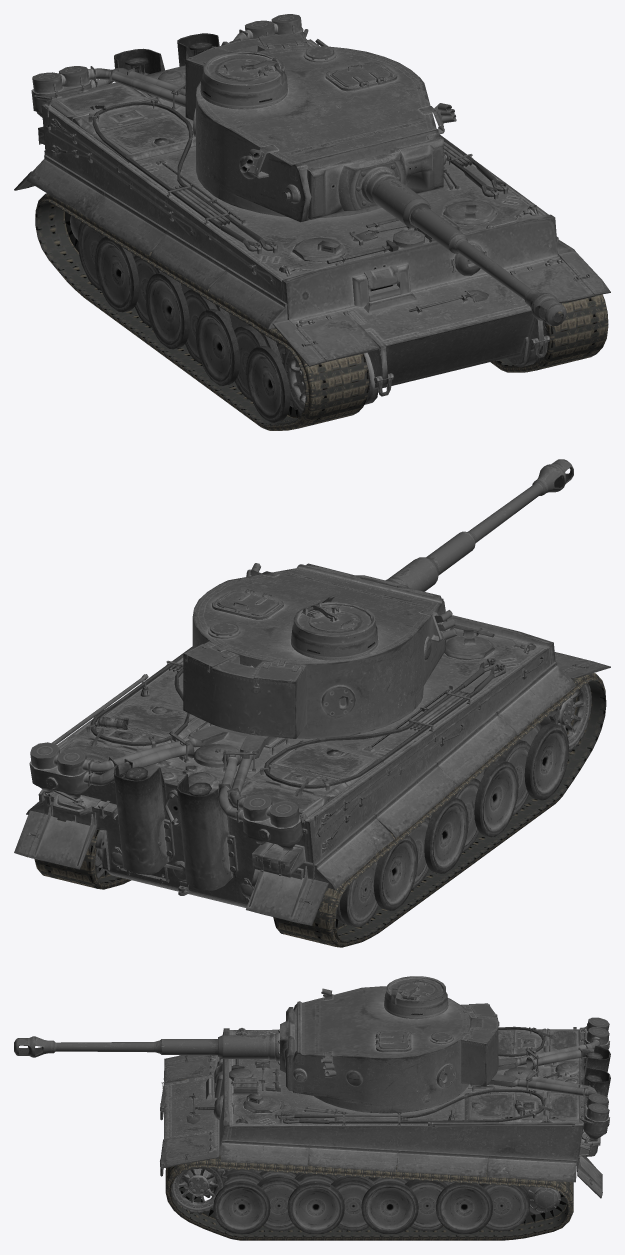
Rendered from tiger_i-maximum-compressed.glb.
The picture shows the model from 3 angles, top to bottom: view 1: azimuth 30°, elevation 25°; view 2: azimuth 150°, elevation 25°; view 3: azimuth 270°, elevation 25°; orthographic projection. The views are drawn at different scales.
Parts seen in each view (by area): view 1: chassis, turret, wheels 1, track 1, gun, track; view 2: chassis, turret, wheels 1, track 1, gun, track; view 3: chassis, turret, wheels, track, gun.
Boxes of the visible parts, bbox=[...] form: chassis: bbox=[14, 14, 610, 404]; turret: bbox=[185, 32, 456, 222]; wheels 1: bbox=[70, 215, 368, 422]; track 1: bbox=[35, 193, 369, 430]; gun: bbox=[307, 136, 566, 326]; track: bbox=[490, 294, 608, 372]; chassis: bbox=[14, 615, 610, 925]; turret: bbox=[183, 563, 456, 738]; wheels 1: bbox=[336, 683, 591, 927]; track 1: bbox=[273, 673, 606, 947]; gun: bbox=[306, 459, 573, 597]; track: bbox=[34, 819, 131, 889]; chassis: bbox=[160, 1017, 610, 1198]; turret: bbox=[292, 976, 499, 1113]; wheels: bbox=[171, 1167, 560, 1234]; track: bbox=[165, 1156, 573, 1240]; gun: bbox=[14, 1007, 296, 1090].
Bounding box in the file's own units: 3.73 × 2.92 × 8.36.
Materials: 5 (5 with a texture image).
